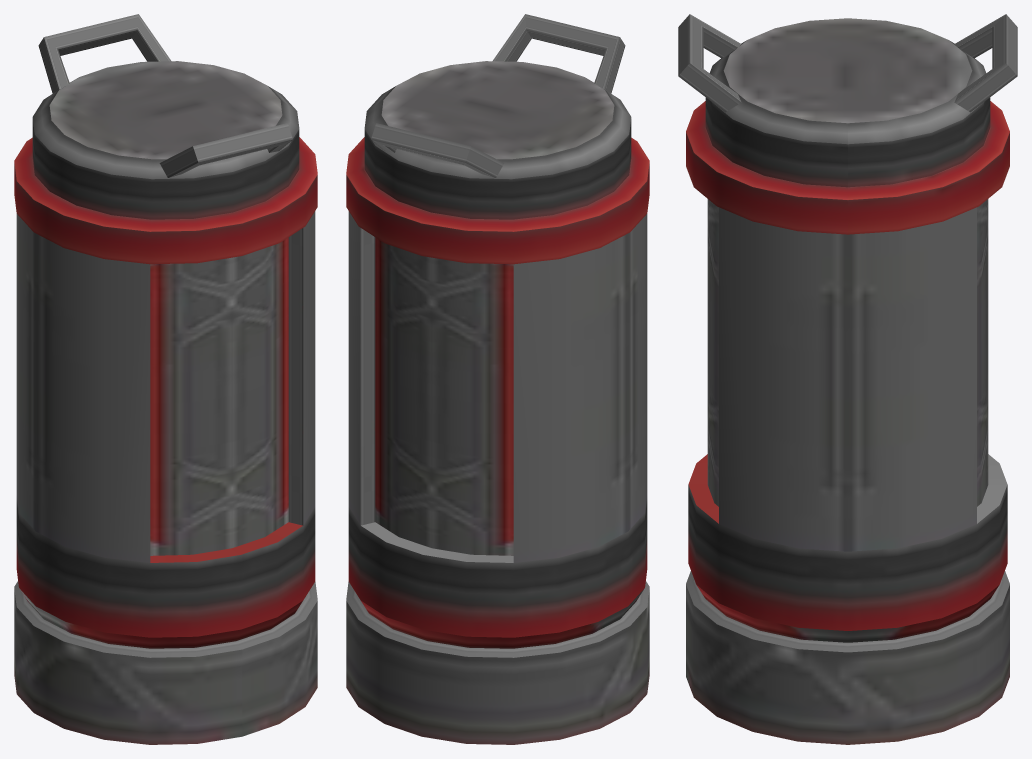
Rendered from Prop_Barrel_Large.glb.
3 views of the same model, side by side, from view 1: azimuth 30°, elevation 25°; view 2: azimuth 150°, elevation 25°; view 3: azimuth 270°, elevation 25° (orthographic). The views are drawn at different scales.
Parts seen in each view (by area): view 1: Prop_Barrel_Large; view 2: Prop_Barrel_Large; view 3: Prop_Barrel_Large.
Part boxes in pixels (<box>): Prop_Barrel_Large: <box>14,14,317,744</box>; Prop_Barrel_Large: <box>346,14,649,744</box>; Prop_Barrel_Large: <box>678,14,1017,744</box>.
Bounding box in the file's own units: 0.5079 × 1.1 × 0.532.
2 materials, 2 textured.
